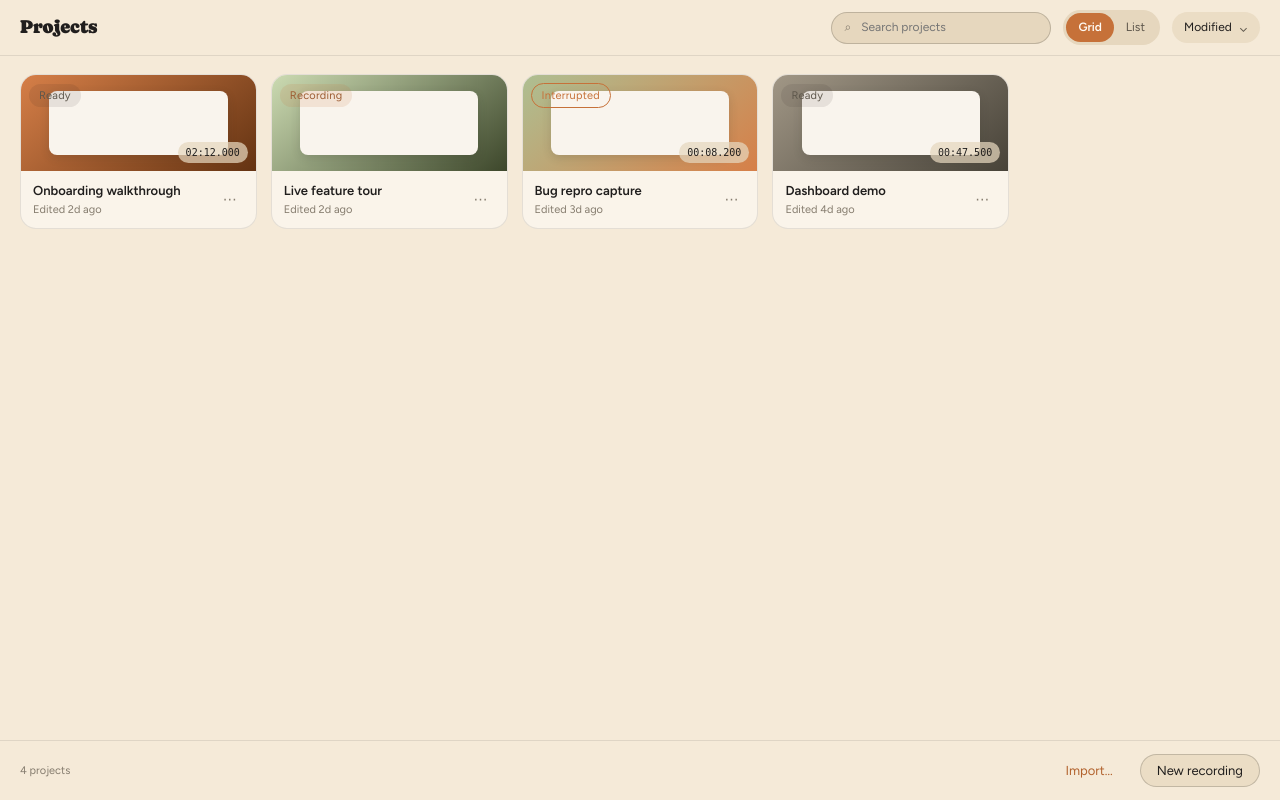
Test: ProjectBrowser › filters cards by search text (case-insensitive)
Type "dashboard" into the search field named "Search projects" at (949, 28), box 859,17 -> 1038,38
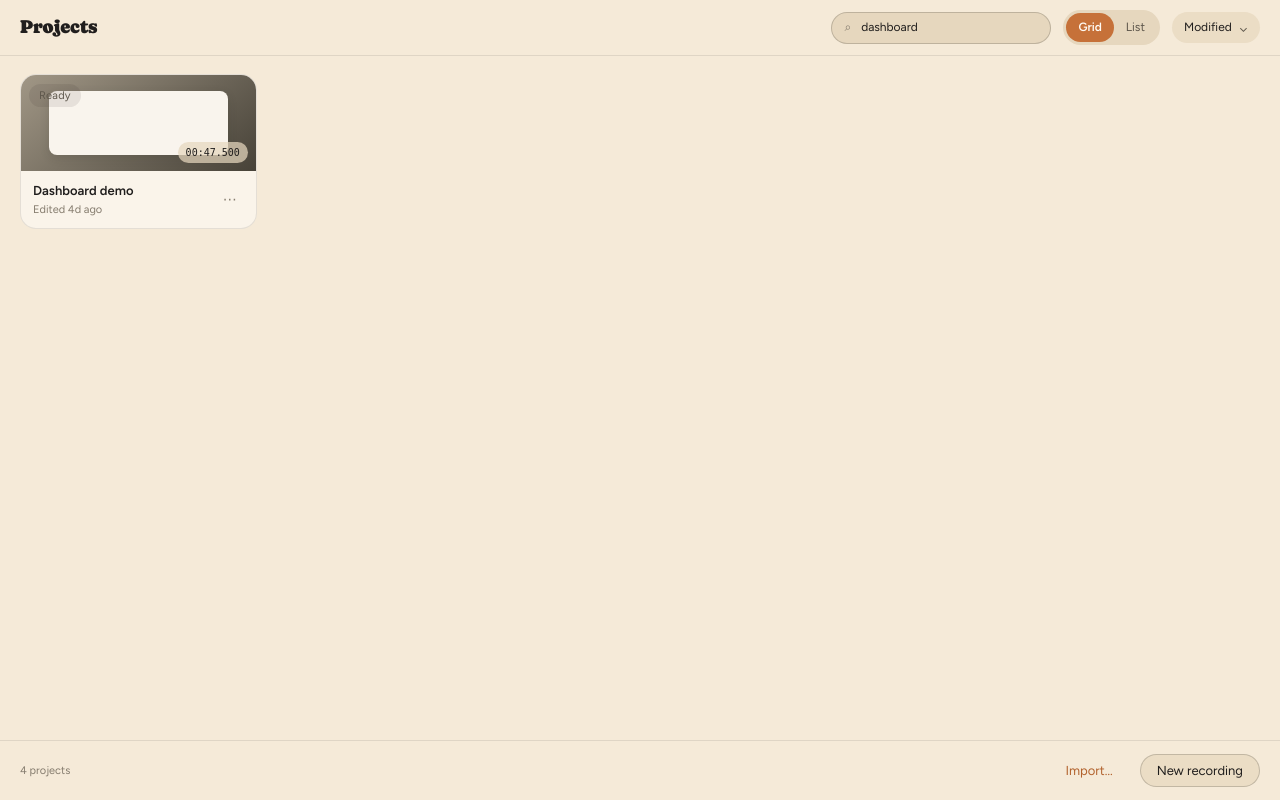
Check: the text "Dashboard demo" is shown, box 33,183 -> 134,198
Check: the button "Onboarding walkthrough" is gone
